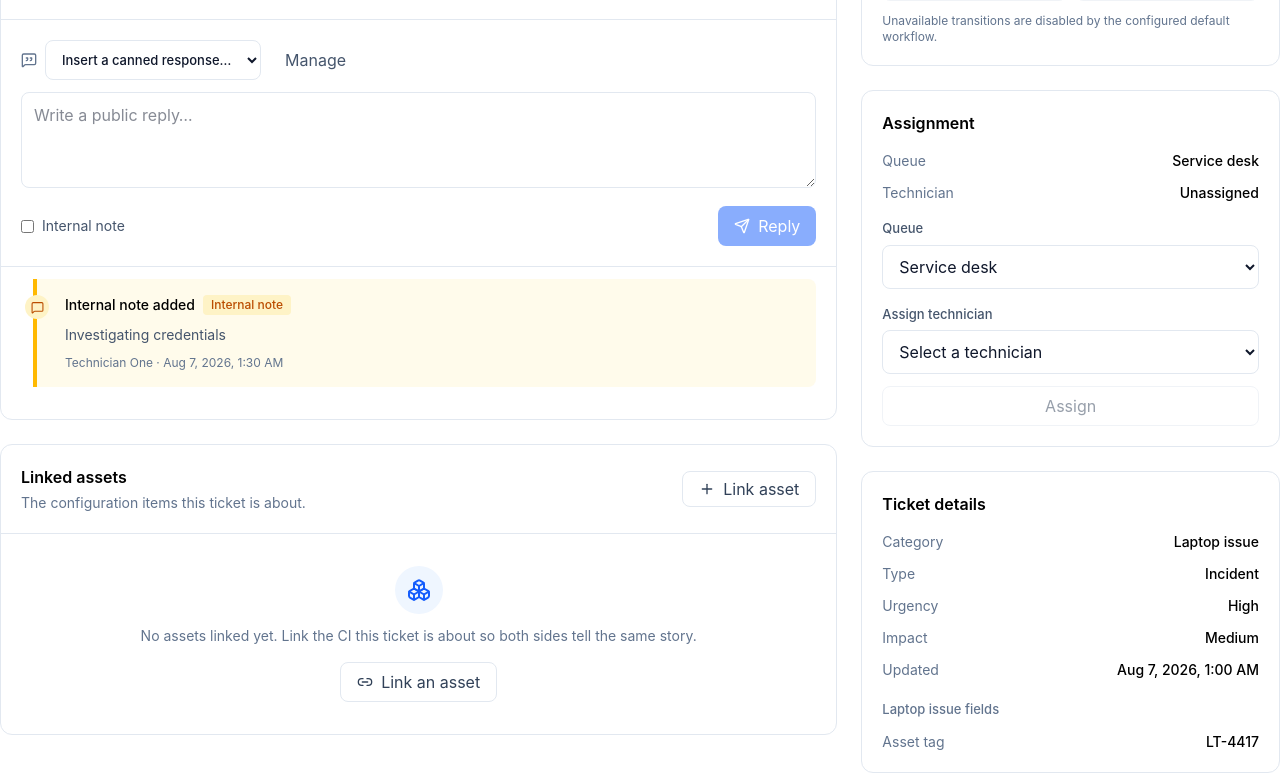
Test case: TicketDetailPage › surfaces a rejected link without closing the picker
(page scrolled)
Click the button "Link an asset". click: click(419, 682)
box: [340,662,497,702]
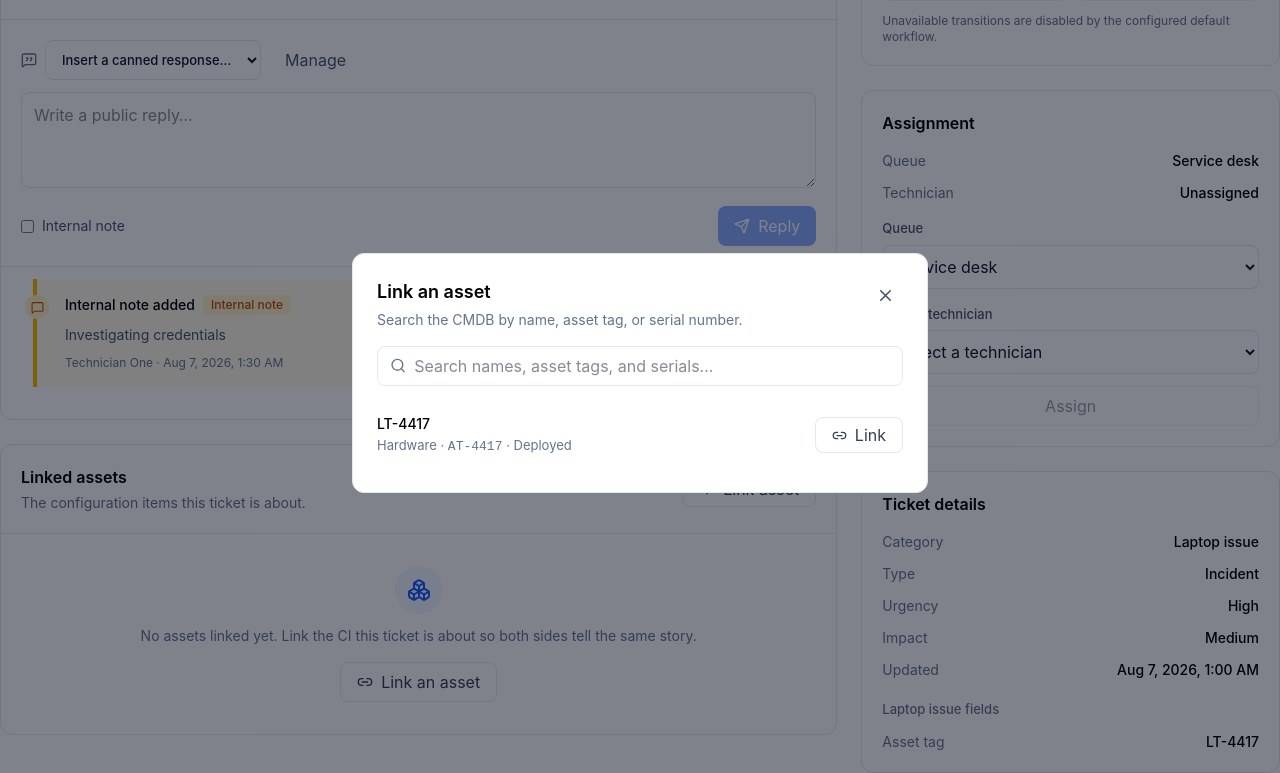
Check: the text "LT-4417" is shown, box [377,415,430,432]
Click the button "Link". click: click(859, 435)
box: [815,417,903,453]
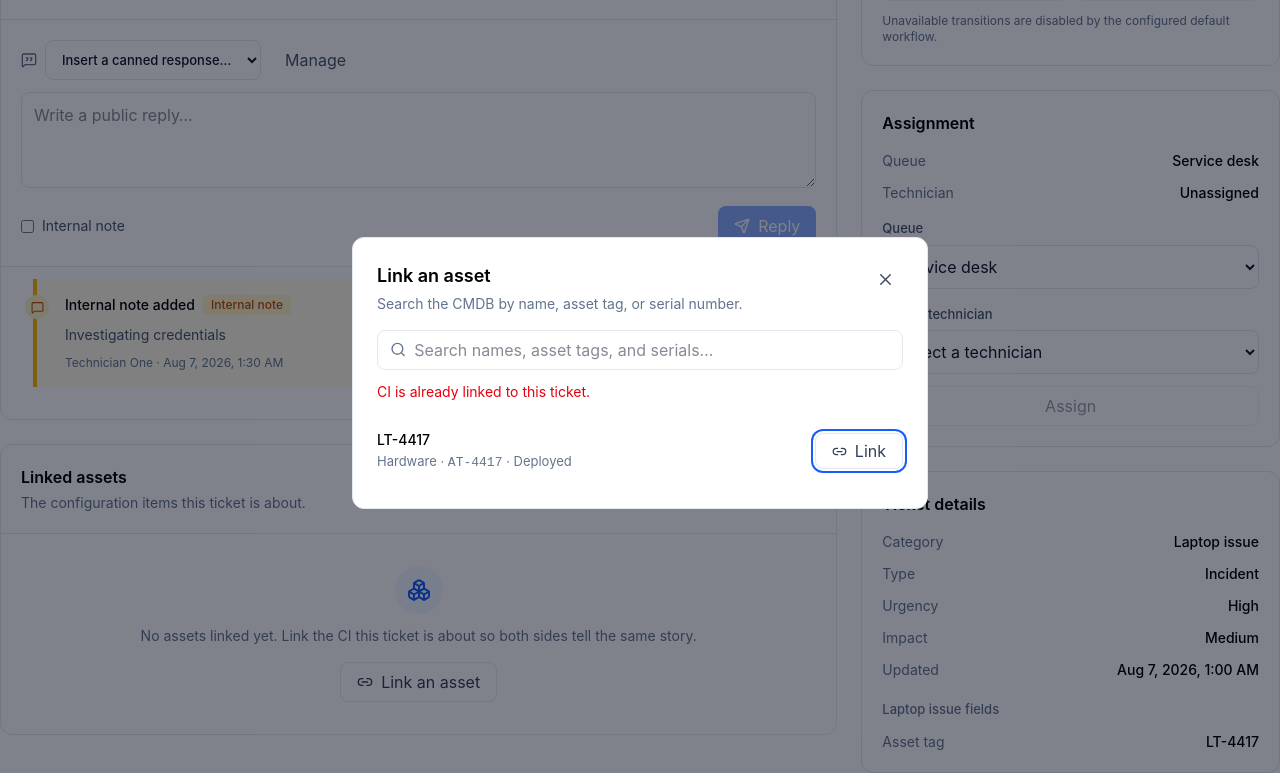
Check: the dialog "Link an asset" is shown, box [352,237,928,509]
Check: the message reads "CI is already linked to this ticket.", box [377,383,590,400]
